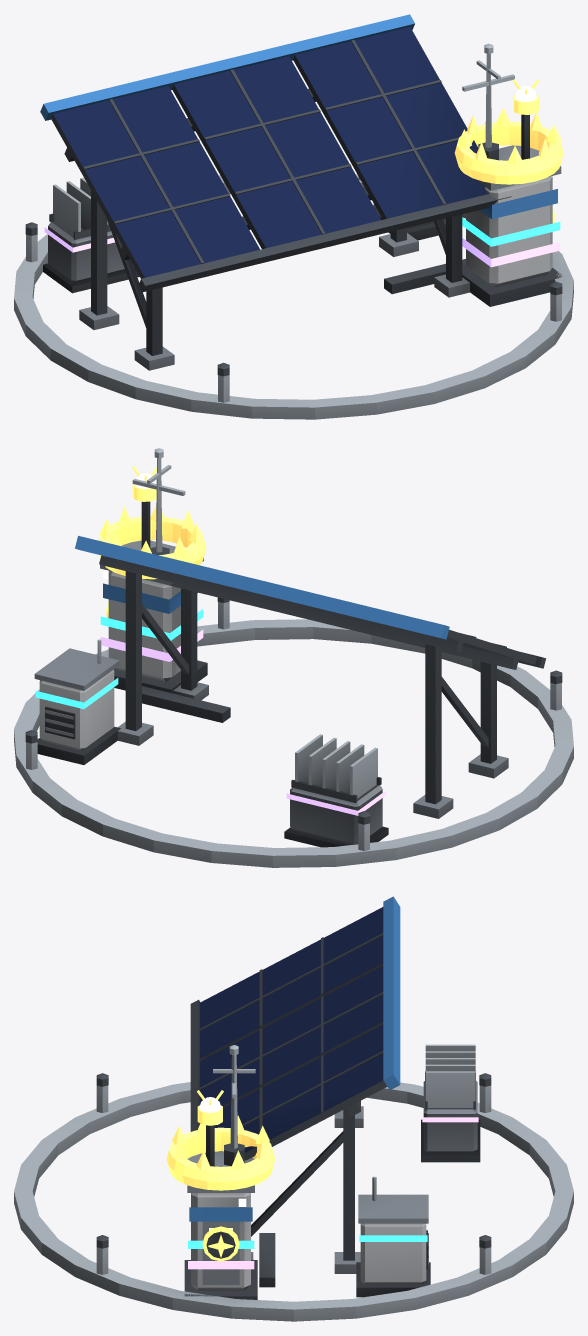
File: solar_array_s.glb
3 views of the same model, one above another, from view 1: azimuth 30°, elevation 25°; view 2: azimuth 150°, elevation 25°; view 3: azimuth 270°, elevation 25° (orthographic).
Visible parts, largest first — view 1: Base, L2, L5, L4, L3; view 2: Base, L2, L4, L3, L5; view 3: Base, L2, L3, L4, L5.
Part boxes in pixels (box(x1,y1,x2,y2)): Base: box(40, 14, 561, 370); L2: box(14, 43, 573, 419); L5: box(454, 79, 563, 223); L4: box(43, 178, 560, 293); L3: box(373, 203, 560, 246); Base: box(75, 535, 546, 818); L2: box(14, 448, 573, 867); L4: box(100, 629, 388, 847); L3: box(34, 609, 203, 764); L5: box(99, 466, 206, 617); Base: box(184, 896, 400, 1299); L2: box(14, 1045, 573, 1321); L3: box(188, 1176, 430, 1297); L4: box(188, 1044, 480, 1269); L5: box(166, 1090, 275, 1261).
Size of the model in its own units: 4.22 by 1.99 by 4.22.
